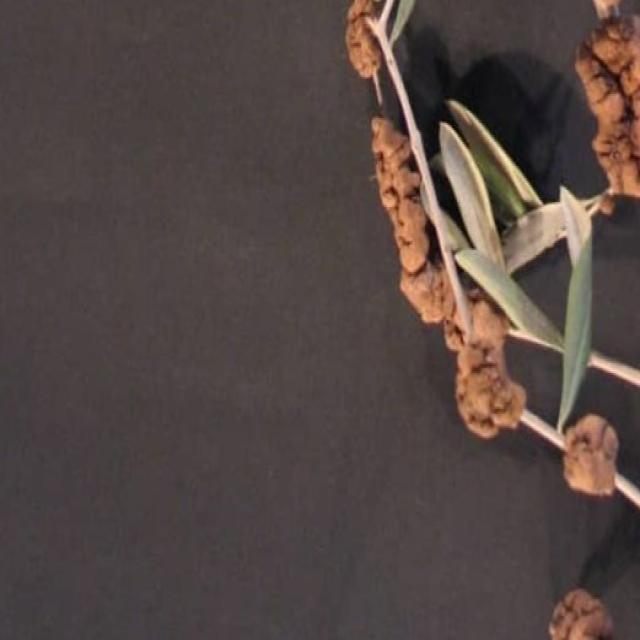Tuberculosis: (373, 116, 526, 438), (575, 0, 639, 197), (563, 412, 620, 496), (549, 587, 614, 638), (345, 0, 382, 79)
